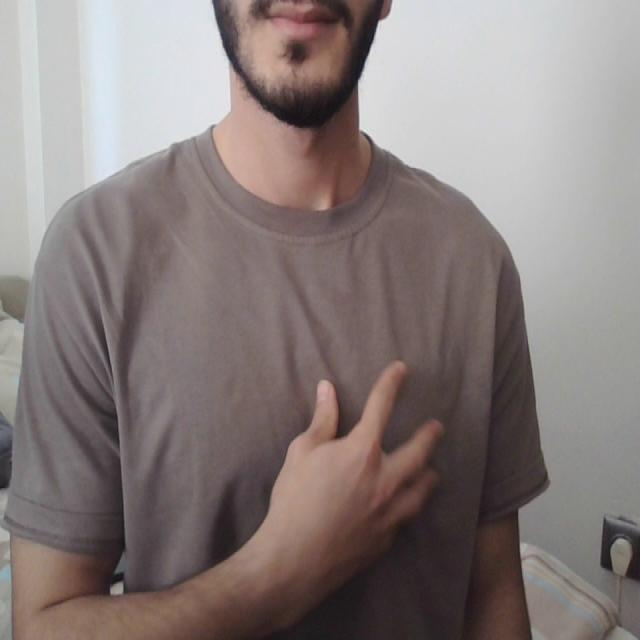Anne: (116, 350, 515, 598)
